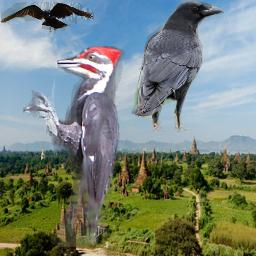Crow: (131, 1, 224, 132), (1, 2, 94, 34)
Woodpecker: (22, 46, 125, 247)
